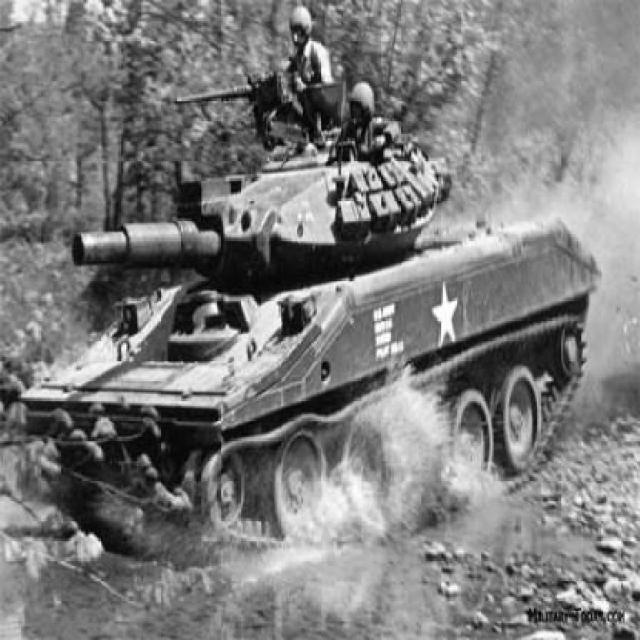Person: (283, 4, 337, 133), (335, 80, 401, 166)
Tank: (16, 121, 604, 555)
